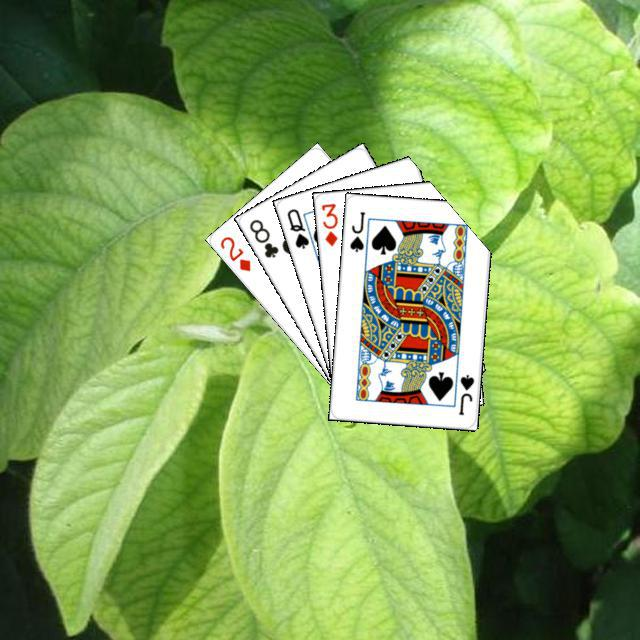2d: (215, 231, 252, 273)
3d: (316, 198, 339, 248)
8c: (244, 214, 280, 260)
Js: (454, 370, 476, 416), (345, 206, 366, 253)
Qs: (282, 204, 311, 250)
